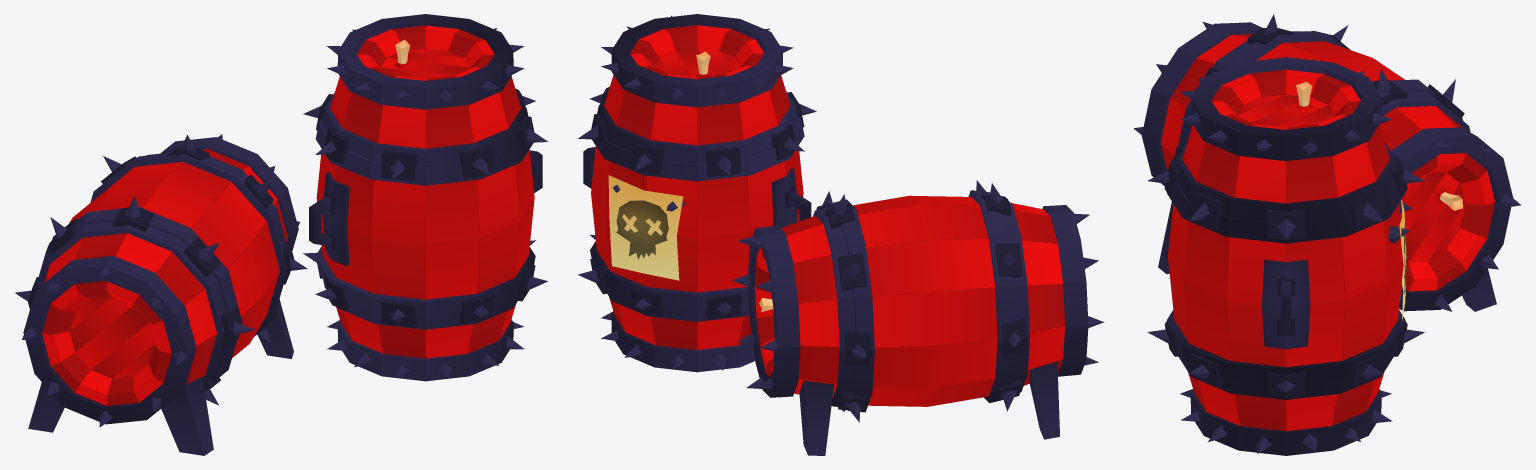
3 views of the same model, side by side, from view 1: azimuth 30°, elevation 25°; view 2: azimuth 150°, elevation 25°; view 3: azimuth 270°, elevation 25° (orthographic). The views are drawn at different scales.
Visible parts, largest first — view 1: Base_BB1.001, Base_BB1, Circle.002, Circle.049, Circle.053, Circle.001, Cube, Cube.040, Cube.030, Cube.012, Cube.007, Circle.014 (+5 smaller); view 2: Base_BB1, Base_BB1.001, Circle.049, Circle.002, Circle.001, Circle.053, Plane.022, Cube, Cube.040, Cube.012, Cube.007, Cube.030 (+5 smaller); view 3: Base_BB1.001, Base_BB1, Circle.049, Circle.053, Circle.002, Cube.041, Circle.001, Cube.030, Cube.040, Circle.014, Circle.016, Cube (+6 smaller).
Part boxes in pixels (bbox=[...]): Base_BB1.001: bbox=[316, 25, 534, 358]; Base_BB1: bbox=[42, 149, 287, 405]; Circle.002: bbox=[23, 137, 298, 424]; Circle.049: bbox=[337, 14, 513, 381]; Circle.053: bbox=[315, 92, 535, 329]; Circle.001: bbox=[36, 152, 287, 383]; Cube: bbox=[28, 299, 293, 455]; Cube.040: bbox=[316, 94, 535, 327]; Cube.030: bbox=[324, 88, 524, 323]; Cube.012: bbox=[28, 146, 294, 348]; Cube.007: bbox=[48, 156, 273, 391]; Circle.014: bbox=[327, 28, 524, 378]; Base_BB1: bbox=[755, 195, 1064, 406]; Base_BB1.001: bbox=[591, 25, 803, 349]; Circle.049: bbox=[611, 14, 782, 372]; Circle.002: bbox=[748, 205, 1088, 397]; Circle.001: bbox=[813, 190, 1029, 412]; Circle.053: bbox=[590, 91, 804, 321]; Plane.022: bbox=[608, 175, 683, 280]; Cube: bbox=[799, 362, 1059, 455]; Cube.040: bbox=[590, 92, 804, 319]; Cube.012: bbox=[825, 194, 1026, 364]; Cube.007: bbox=[816, 192, 1022, 411]; Cube.030: bbox=[600, 87, 795, 316]; Base_BB1.001: bbox=[1168, 69, 1403, 431]; Base_BB1: bbox=[1160, 34, 1494, 291]; Circle.049: bbox=[1190, 57, 1381, 455]; Circle.053: bbox=[1167, 142, 1405, 399]; Circle.002: bbox=[1141, 22, 1513, 311]; Cube.041: bbox=[1262, 259, 1310, 349]; Circle.001: bbox=[1178, 31, 1470, 147]; Cube.030: bbox=[1164, 156, 1407, 397]; Cube.040: bbox=[1189, 190, 1383, 388]; Circle.014: bbox=[1180, 59, 1392, 453]; Circle.016: bbox=[1147, 170, 1424, 392]; Cube: bbox=[1158, 202, 1496, 311].
Size of the model in its own units: 3.79 by 2.06 by 2.24.
4 materials, 4 textured.
